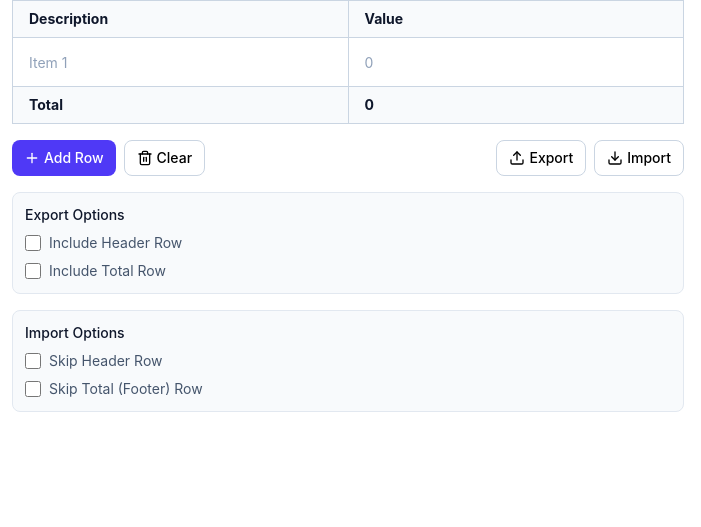
Scenario: ColumnSumTable › Table Clear › should reset table to initial state when Clear is clicked
Click the button "Add Row": (64, 158) [12,140,116,176]
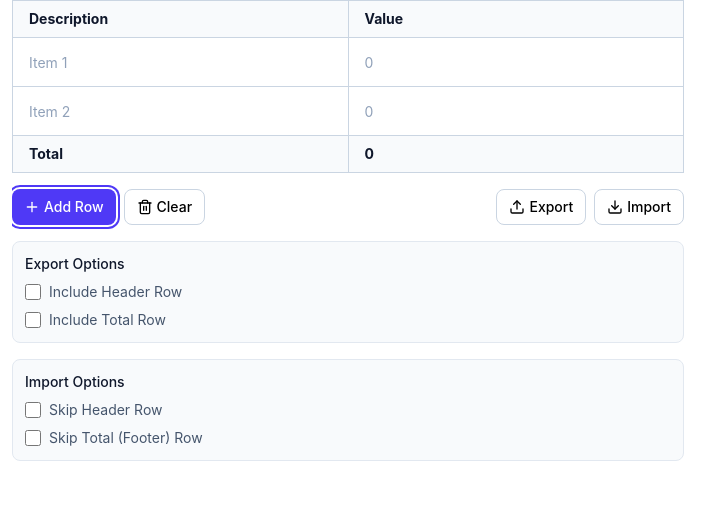
Click the button "Add Row": (64, 207) [12,189,116,225]
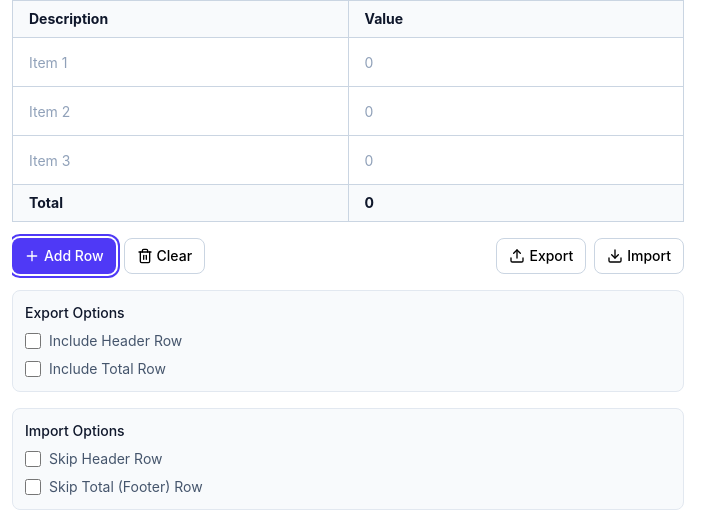
In the field named "description": (180, 62) [17,42,344,82], type "Item A"
In the field named "value": (516, 62) [352,42,679,82], type "100"
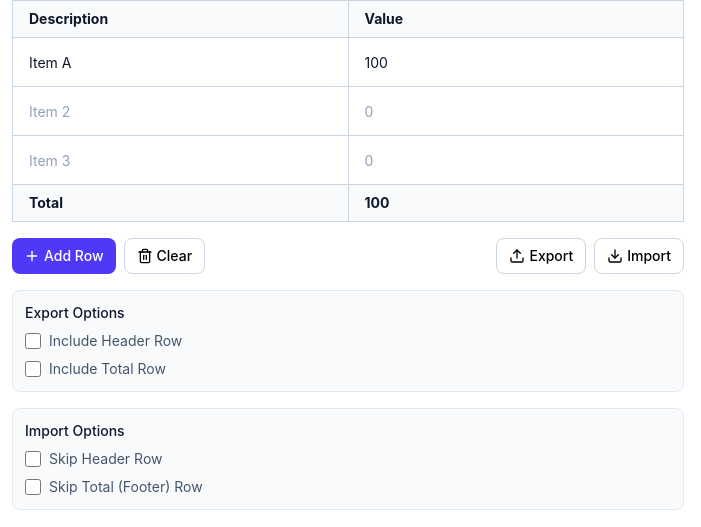
In the field named "description": (180, 111) [17,91,344,131], type "Item B"
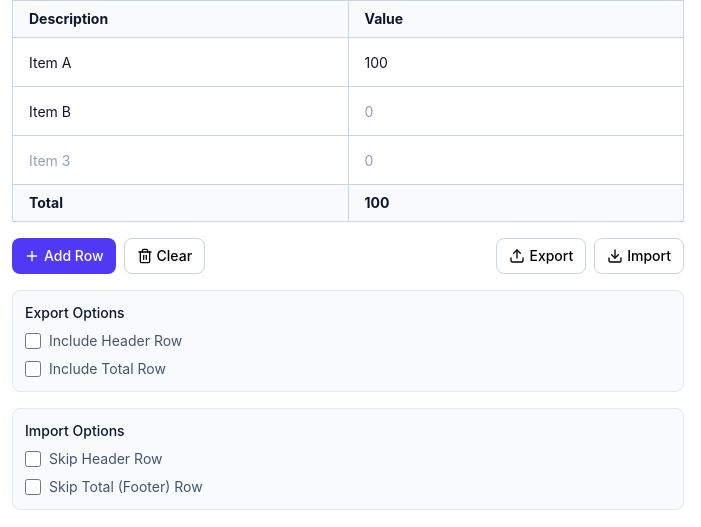
In the field named "value": (516, 111) [352,91,679,131], type "200"
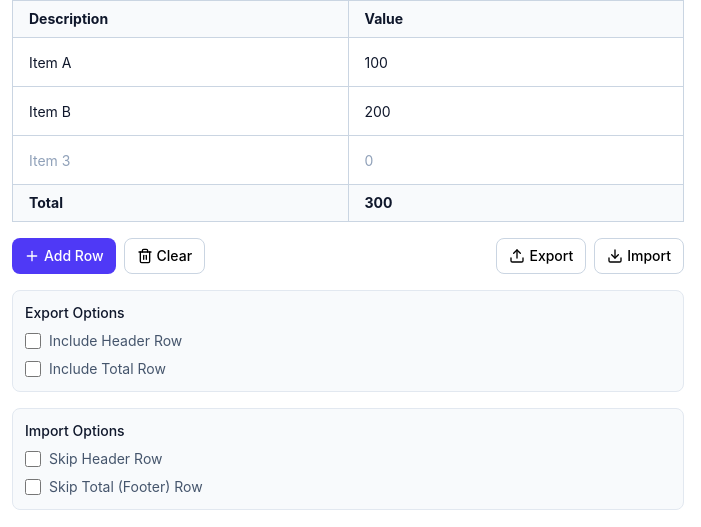
Expected: the number of fields named "description" is 3, [17,42,344,82]; [17,91,344,131]; [17,140,344,180]
Expected: the text "Total" shows "300", [364,194,392,211]
Click the button "Clear": (164, 256) [124,238,205,274]
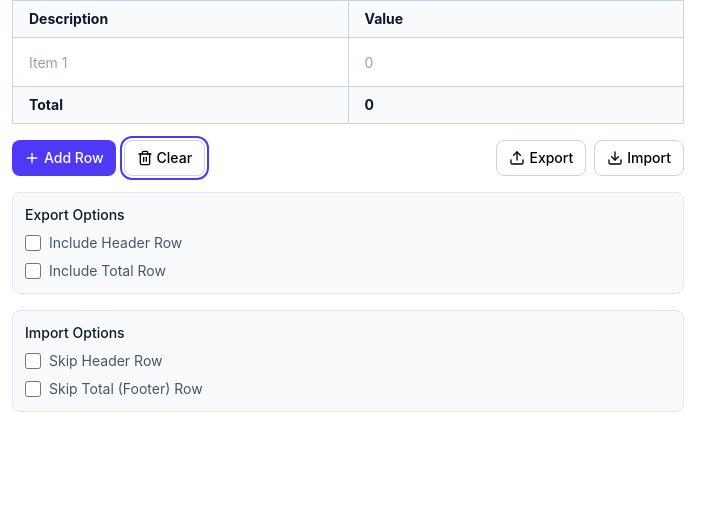
Expected: the number of fields named "description" is 1, [17,42,344,82]
Expected: the field named "description" is empty, [17,42,344,82]
Expected: the field named "value" is empty, [352,42,679,82]
